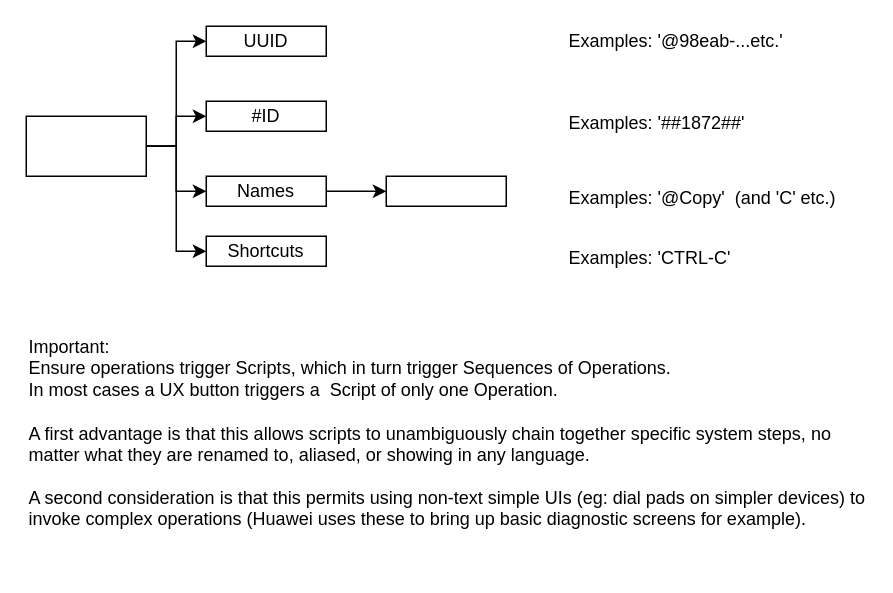
Some shapes in this 893 by 593 pixel diagram are drawn without their labels. Each missing label, with the box of its shape:
Aliases: (385, 175, 506, 206)
Operation: (25, 115, 146, 176)
